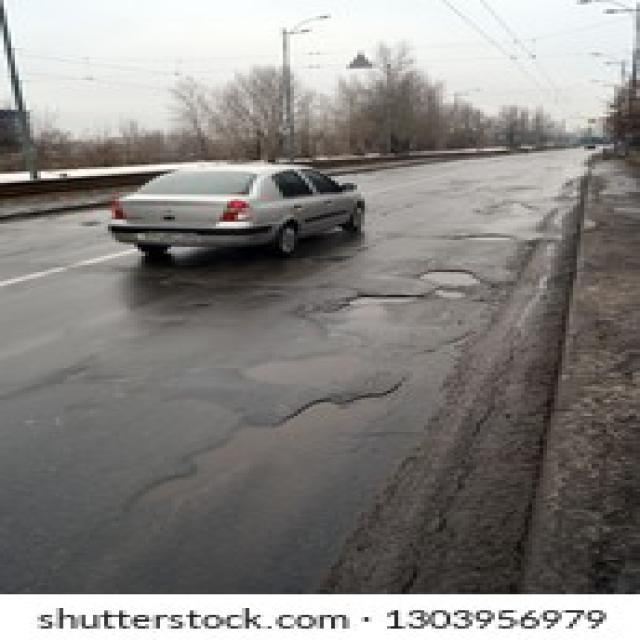Pothole: (238, 349, 372, 386), (413, 270, 484, 288), (342, 292, 424, 304), (450, 233, 517, 242), (432, 288, 468, 300)
